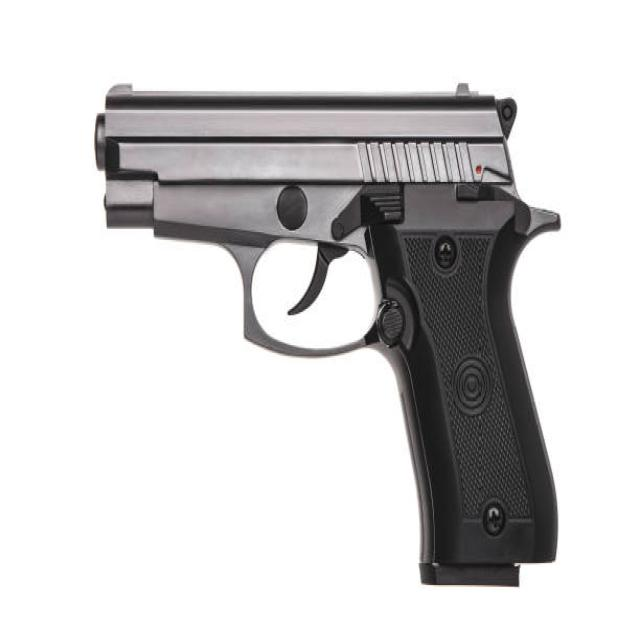pistol: (85, 76, 565, 596)
